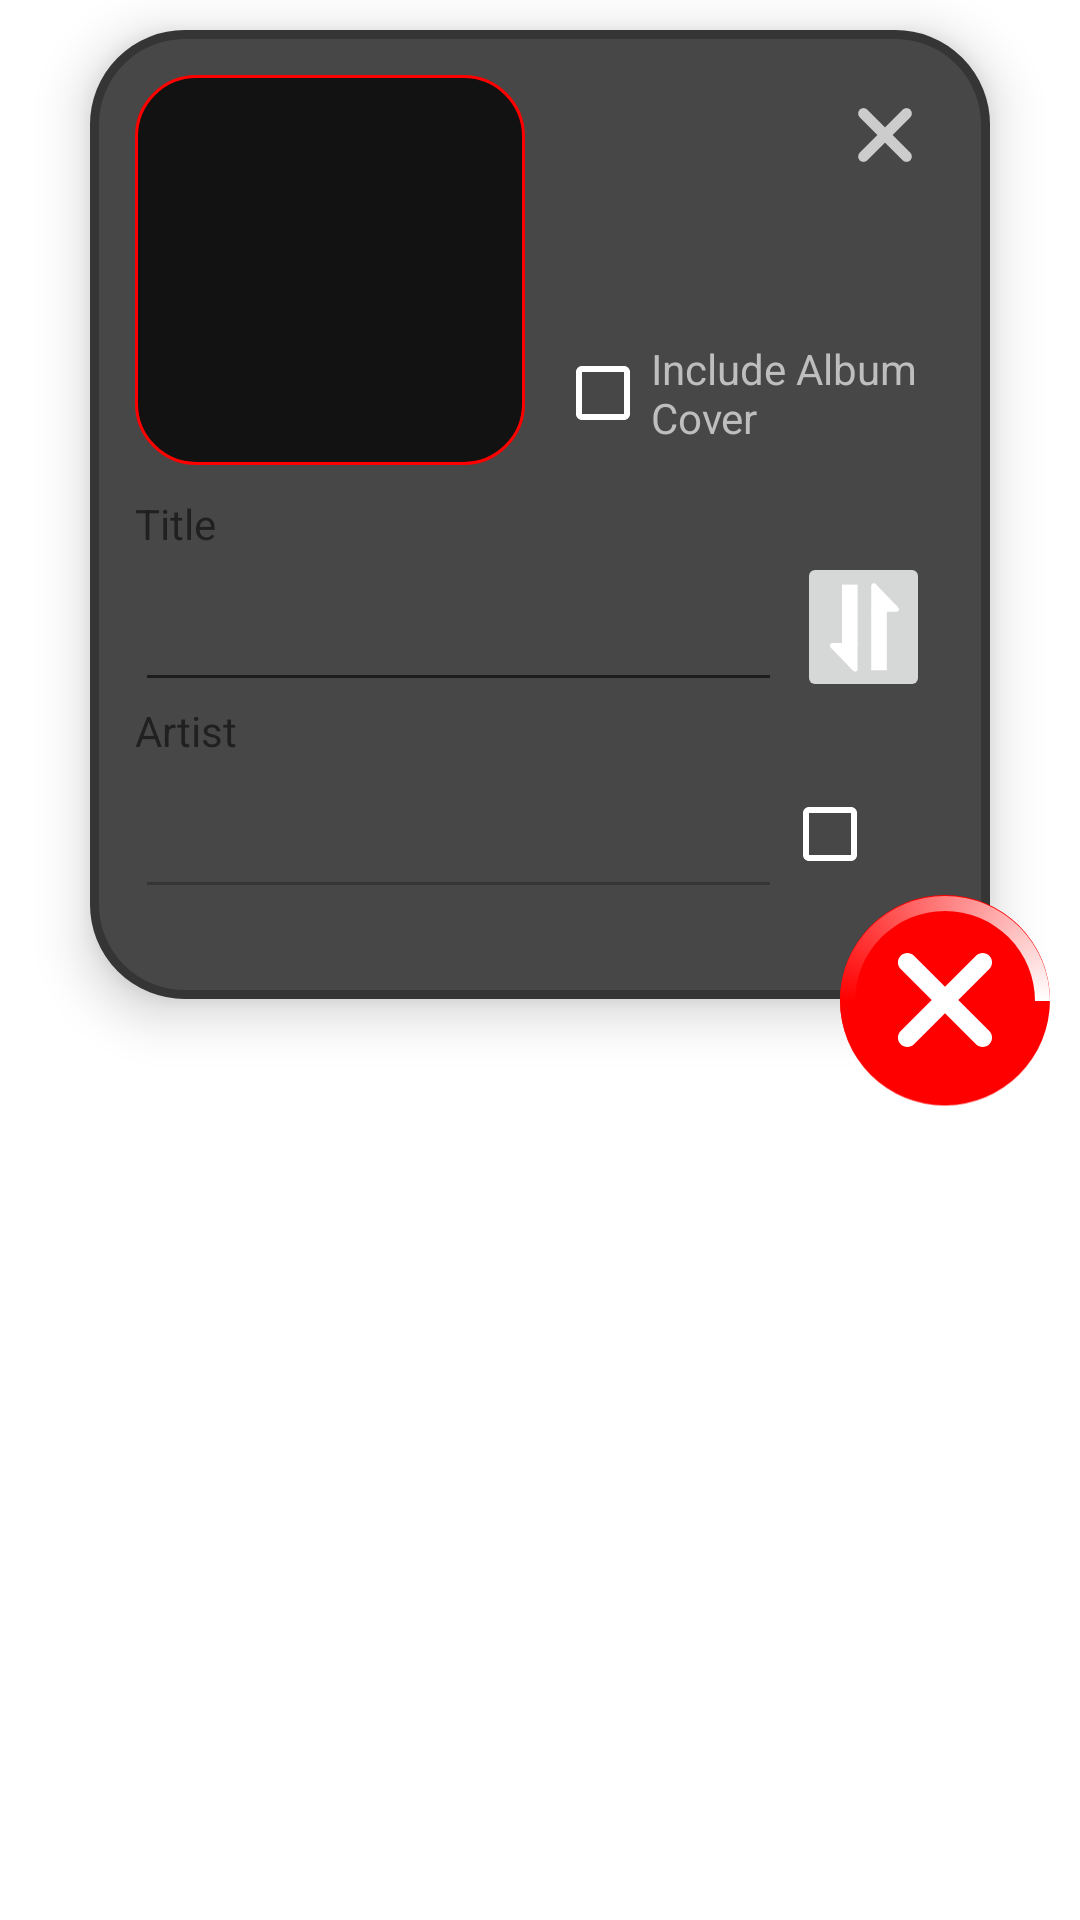

Icon bounding boxes for this 1080 × 1920 phone screenshot, format bbox=[x1, y1, x2, y2]:
cancel: bbox=[840, 895, 1050, 1105]
panel close: bbox=[858, 108, 912, 162]
swap: bbox=[809, 570, 918, 684]
